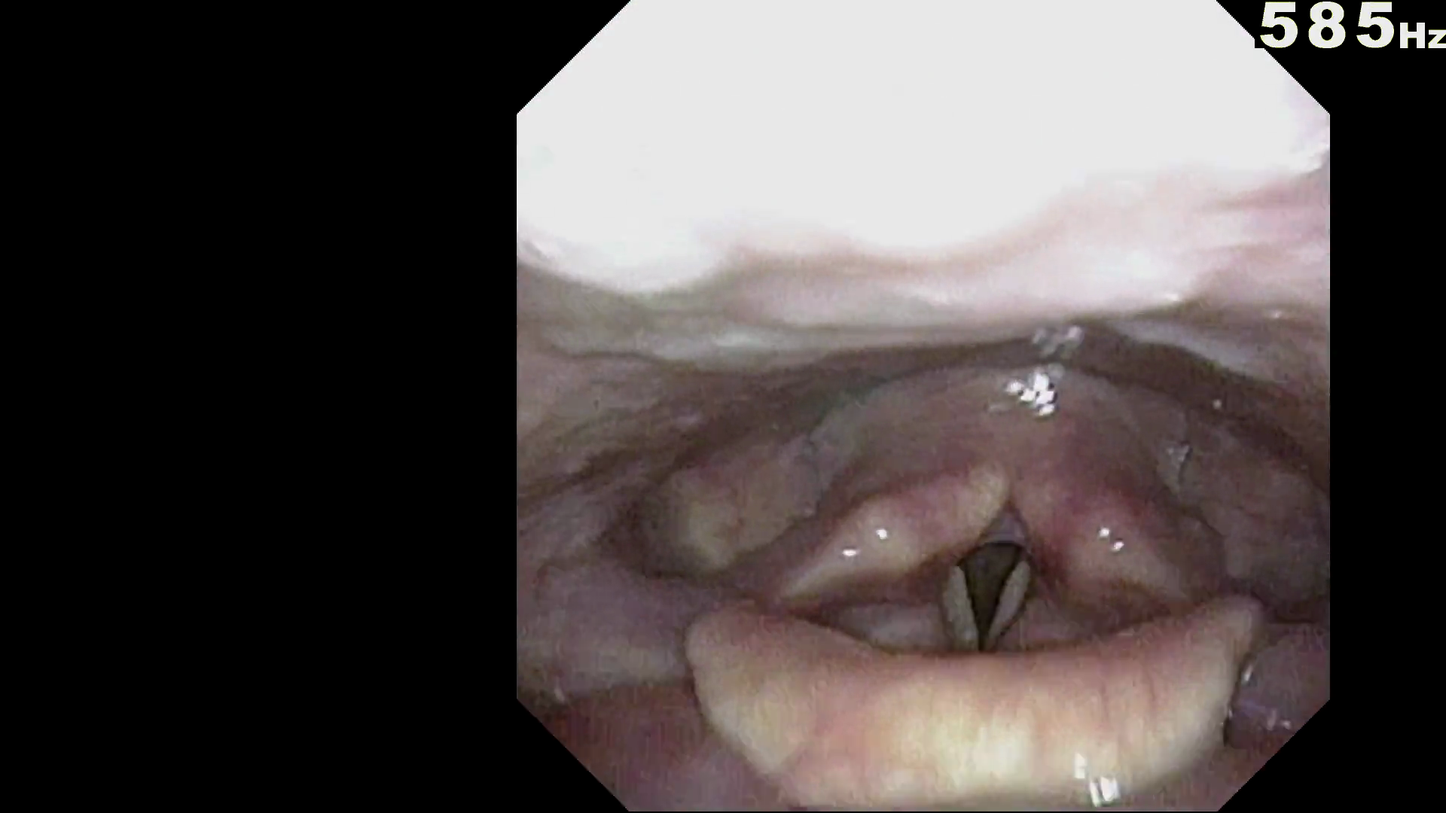epiglottis: (671, 600, 1213, 740)
trachea: (916, 533, 1045, 627)
